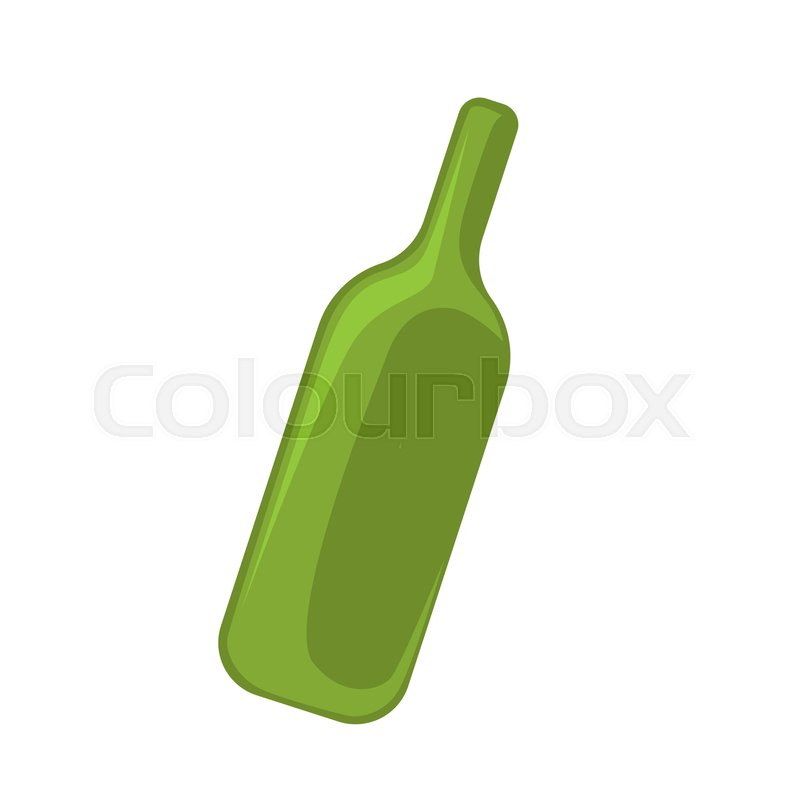bottle: (207, 90, 532, 728)
